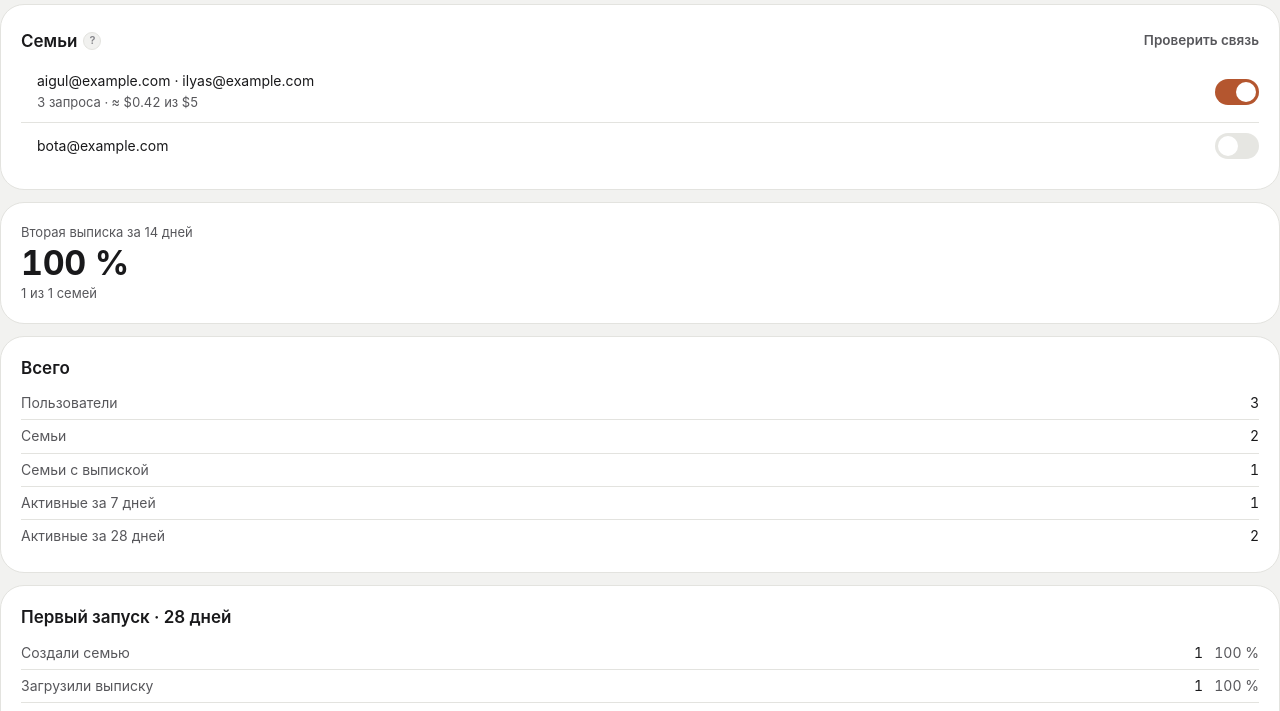
Scenario: AI-04: админка — семьи и ИИ › лимит в долларах: в подсказке «До $2 …», у семьи «из $2»; другой лимит — своё число
The width and height of the screenshot is (1280, 711).
Click the button named "Про лимит": (92, 41) [83,32,101,50]
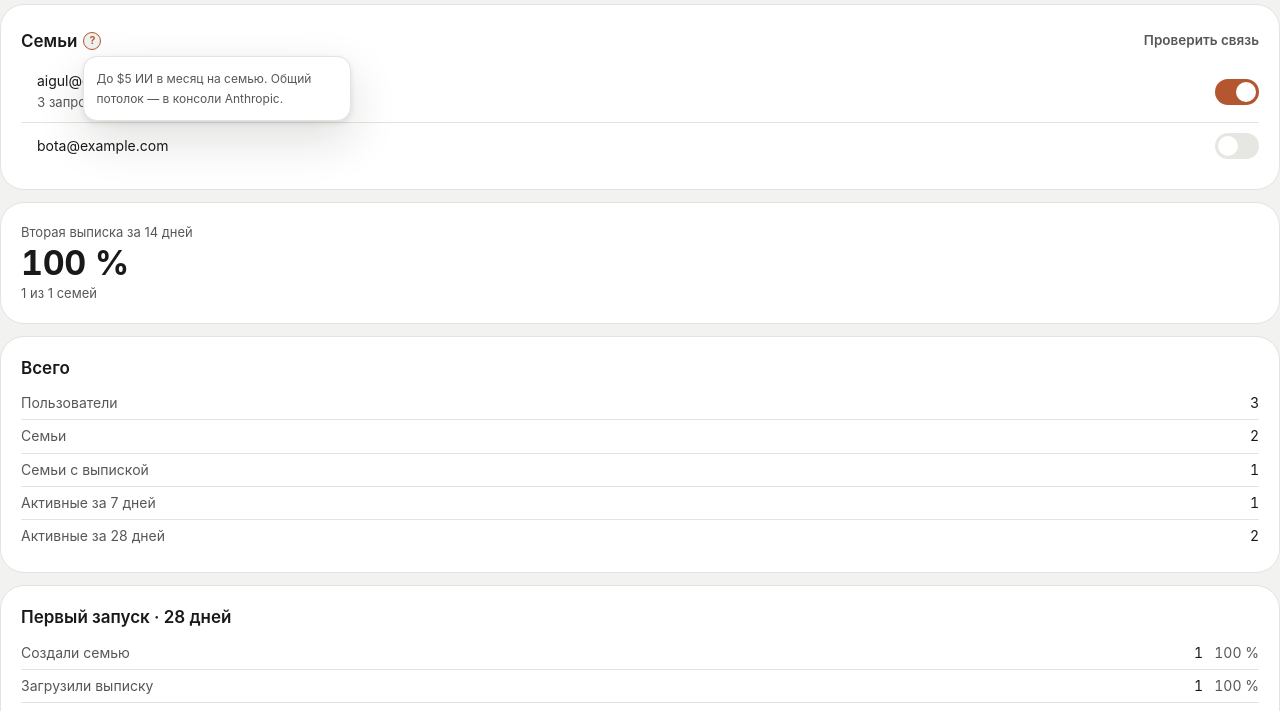
Expected: the text "3 запроса · ≈ $0.42 из $5" is shown, [37,94,198,110]
Now the text "До $5 ИИ в месяц на семью." is shown, box [96,71,267,86]
